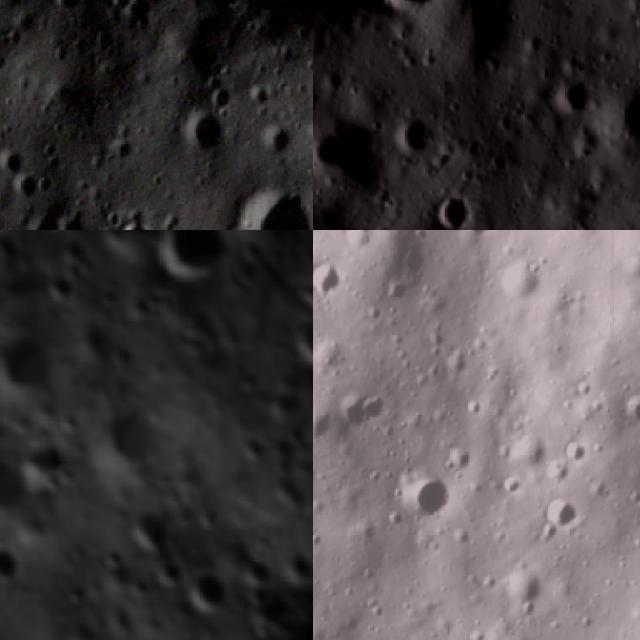crater: (84, 387, 184, 490), (313, 106, 393, 203), (0, 312, 75, 415), (137, 230, 248, 299), (8, 427, 83, 501), (0, 436, 52, 533), (118, 496, 186, 567), (220, 184, 313, 230), (177, 562, 242, 626), (402, 460, 462, 523), (231, 548, 289, 606), (178, 107, 235, 162), (338, 384, 392, 436), (499, 558, 551, 610), (279, 303, 313, 378), (545, 74, 596, 123), (534, 488, 586, 535), (40, 264, 89, 313), (394, 107, 435, 162), (429, 186, 480, 230), (214, 230, 313, 252), (278, 539, 313, 597), (150, 550, 194, 596), (615, 77, 640, 154), (500, 262, 546, 303), (7, 168, 48, 212), (233, 426, 274, 468), (258, 119, 298, 162), (313, 254, 348, 303), (382, 0, 442, 25), (564, 127, 606, 162), (137, 280, 176, 317), (446, 440, 484, 477), (16, 205, 69, 230), (0, 143, 26, 184), (618, 389, 640, 429), (112, 213, 155, 230)
